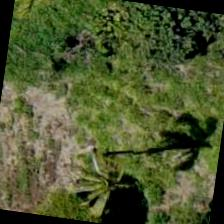Kelapa_Sawit: (50, 124, 153, 223)
